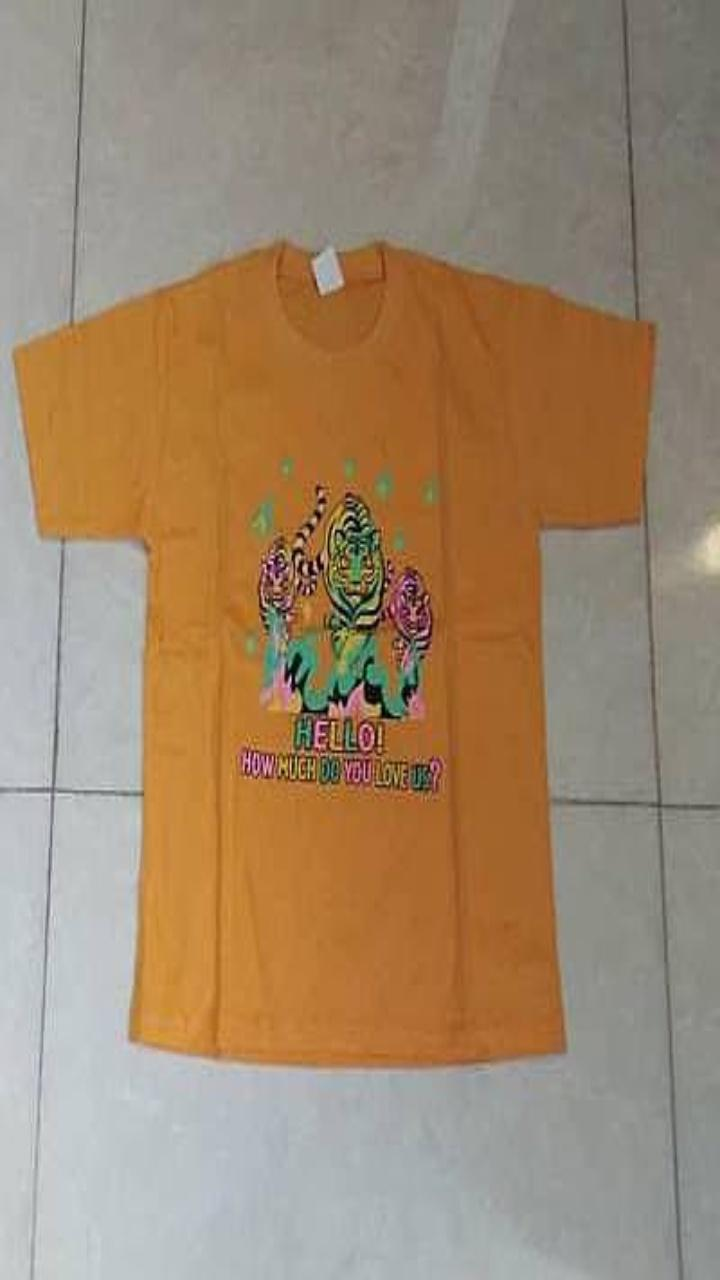T-Shirt: (15, 241, 653, 1063)
